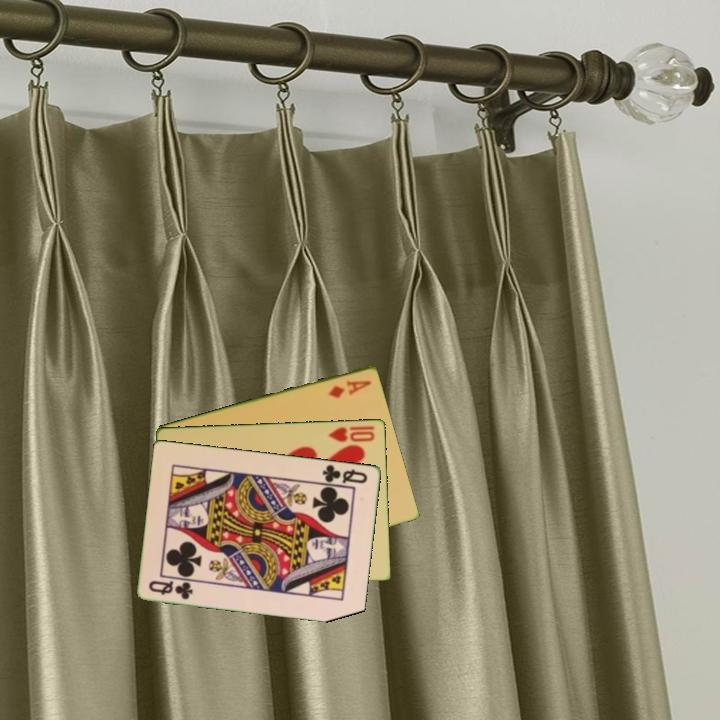10h: (324, 423, 378, 444)
Ad: (325, 376, 374, 401)
Qc: (317, 461, 371, 487), (145, 577, 196, 602)
